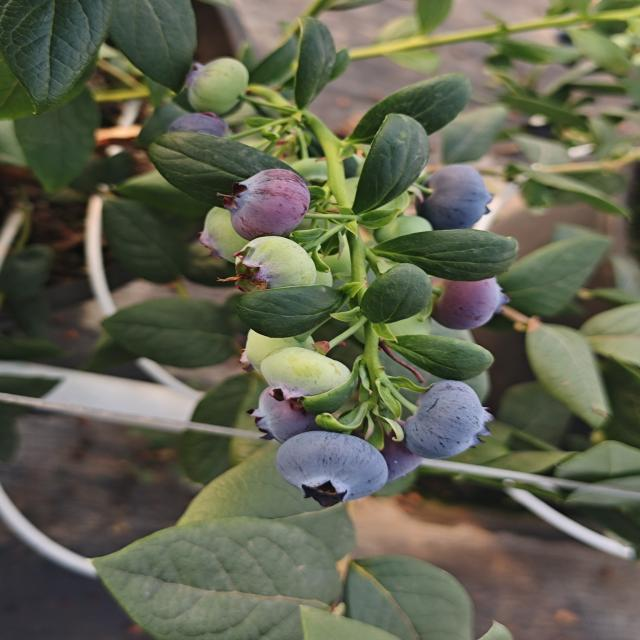ripe: (274, 427, 390, 508), (400, 378, 502, 462), (240, 371, 341, 445), (225, 163, 314, 240), (409, 163, 502, 230), (424, 262, 507, 331), (150, 104, 243, 153), (373, 428, 440, 496)
